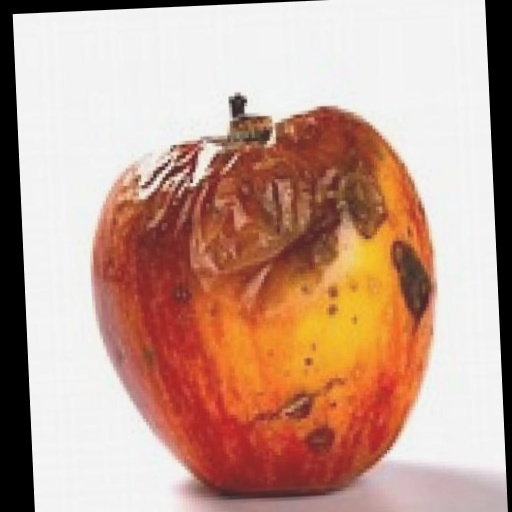fruit: (92, 96, 434, 494)
